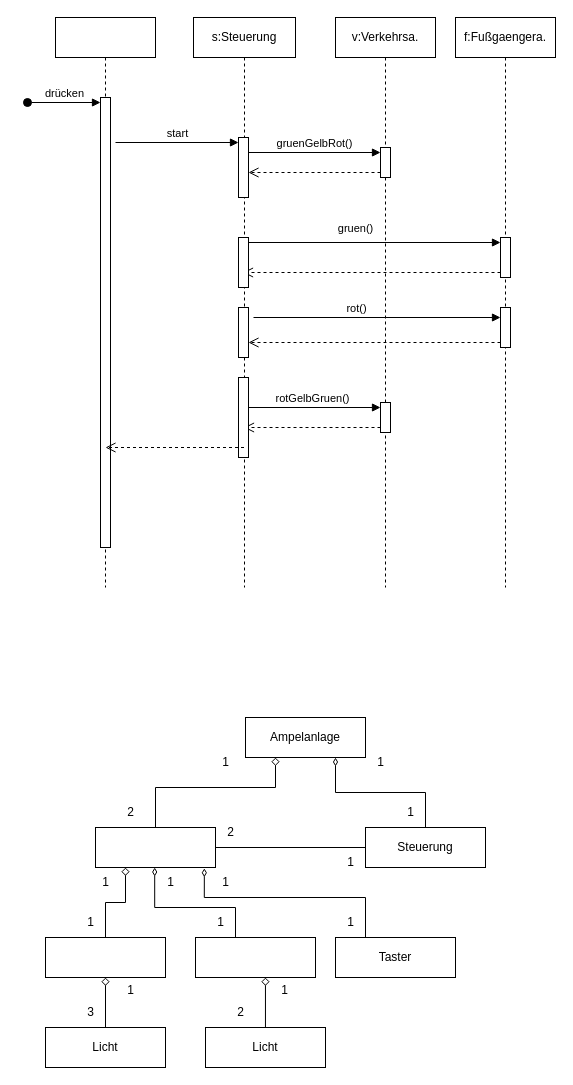
Image size: 573x1085. Some labels were removed from this diagram. The box of each missing label's shape, as (x1, y1, x2, y2) in pixels:
Ampel: (94, 826, 216, 868)
Fußgängerampel: (194, 936, 316, 978)
t:Taster: (54, 16, 156, 588)
Verkehrsampel: (44, 936, 166, 978)
